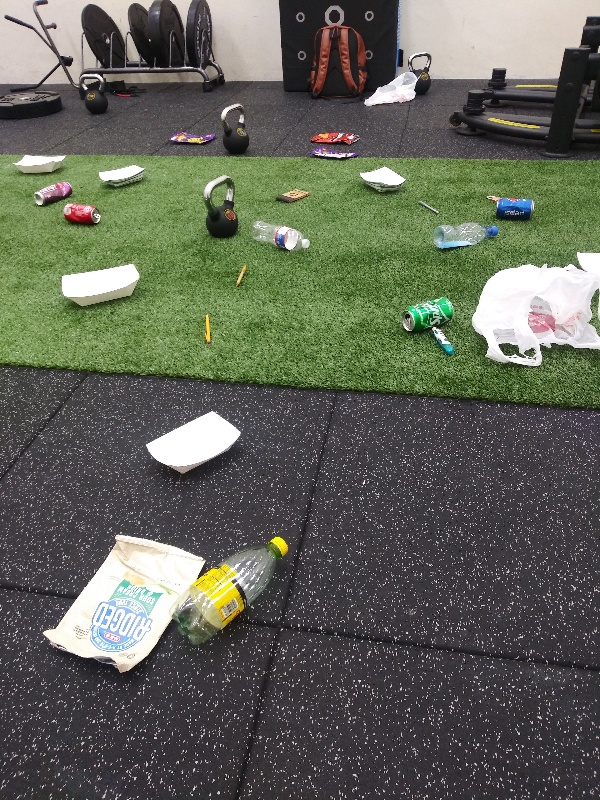bag: (40, 528, 207, 680), (166, 128, 223, 154), (307, 127, 362, 149), (306, 146, 359, 163)
bottle: (171, 528, 293, 651), (246, 215, 315, 253), (432, 220, 500, 252)
can: (396, 288, 456, 335), (491, 193, 539, 226), (29, 178, 76, 208), (59, 201, 108, 227)
plate: (138, 407, 243, 481), (54, 258, 145, 310), (353, 162, 412, 198), (94, 163, 153, 191), (11, 149, 70, 175), (571, 247, 600, 289)
